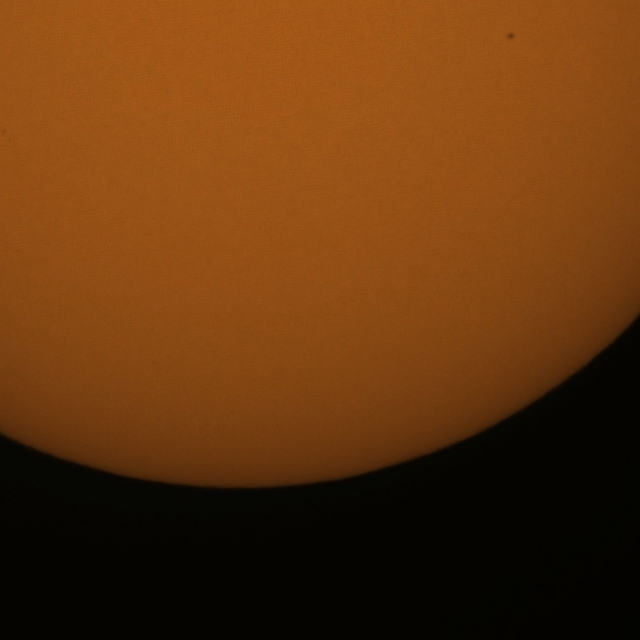sunspot: (505, 30, 516, 42)
